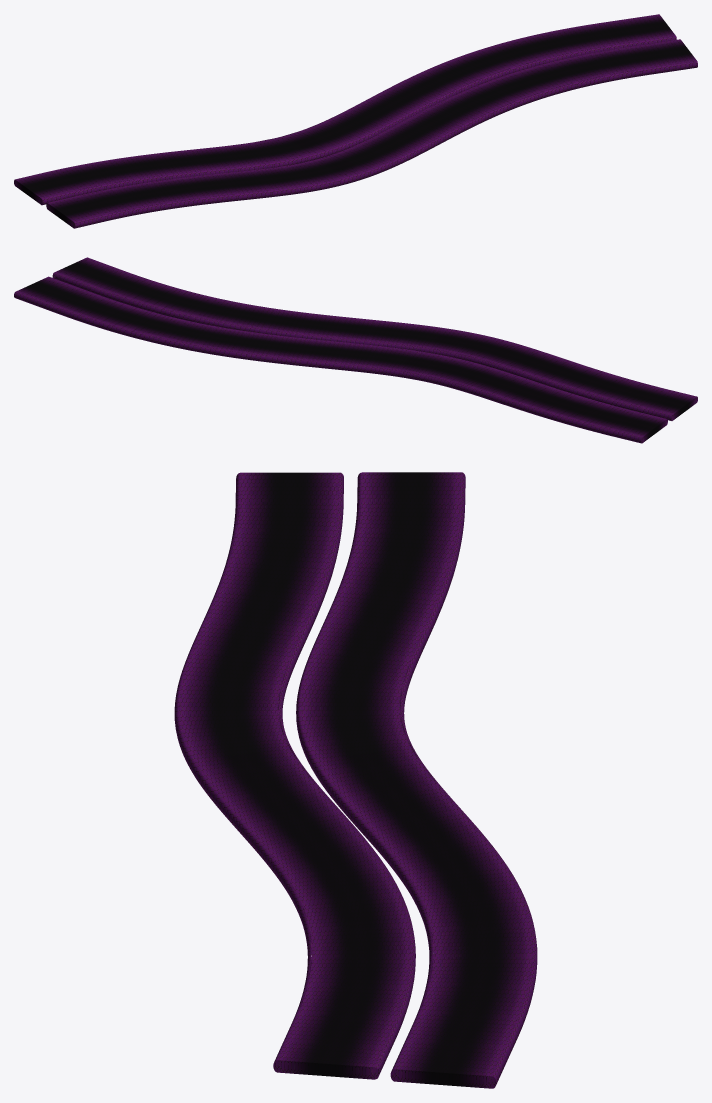
Rendered from level-03-track-03.glb.
3 views of the same model, one above another, from view 1: azimuth 30°, elevation 25°; view 2: azimuth 150°, elevation 25°; view 3: azimuth 270°, elevation 25° (orthographic). The views are drawn at different scales.
Visible parts, largest first — view 1: track-03.002-col; view 2: track-03.002-col; view 3: track-03.002-col.
Boxes of the visible parts, bbox=[...] form: track-03.002-col: bbox=[14, 14, 697, 228]; track-03.002-col: bbox=[14, 257, 697, 443]; track-03.002-col: bbox=[174, 472, 537, 1088].
Bounding box in the file's own units: 41.76 × 0.8182 × 10.59.
Materials: 4 (4 with a texture image).
